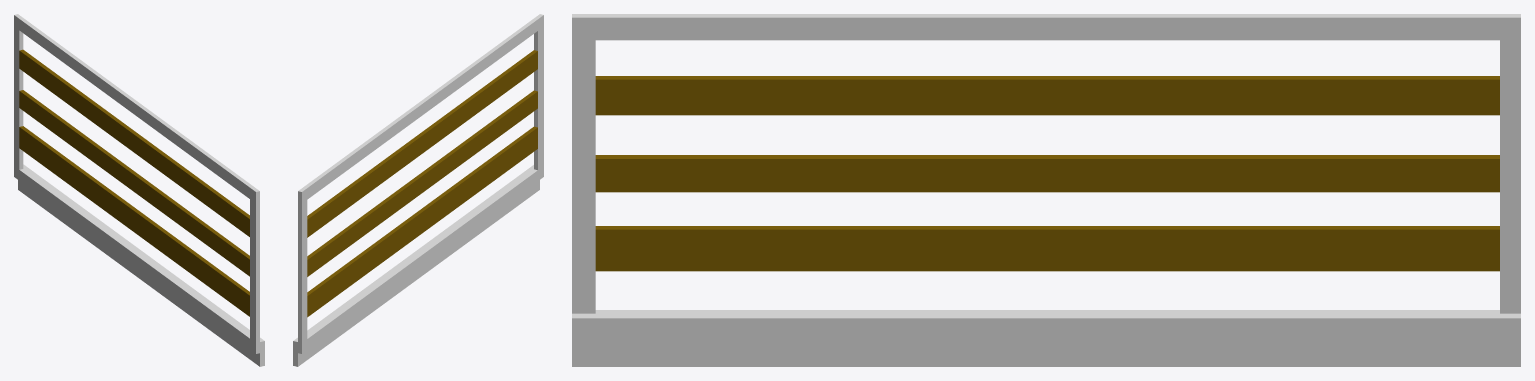
Rendered from balcony railing.fbx.
3 renders of one model, left to right at view 1: azimuth 30°, elevation 25°; view 2: azimuth 150°, elevation 25°; view 3: azimuth 270°, elevation 25°, orthographic. The views are drawn at different scales.
Parts seen in each view (by area): view 1: Balcony_Railing; view 2: Balcony_Railing; view 3: Balcony_Railing.
Boxes of the visible parts, box(x1,y1,x2,y2) form: Balcony_Railing: box(14, 14, 264, 366); Balcony_Railing: box(293, 14, 543, 366); Balcony_Railing: box(572, 14, 1520, 366).
Bounding box in the file's own units: 0.0419 × 0.8014 × 2.
